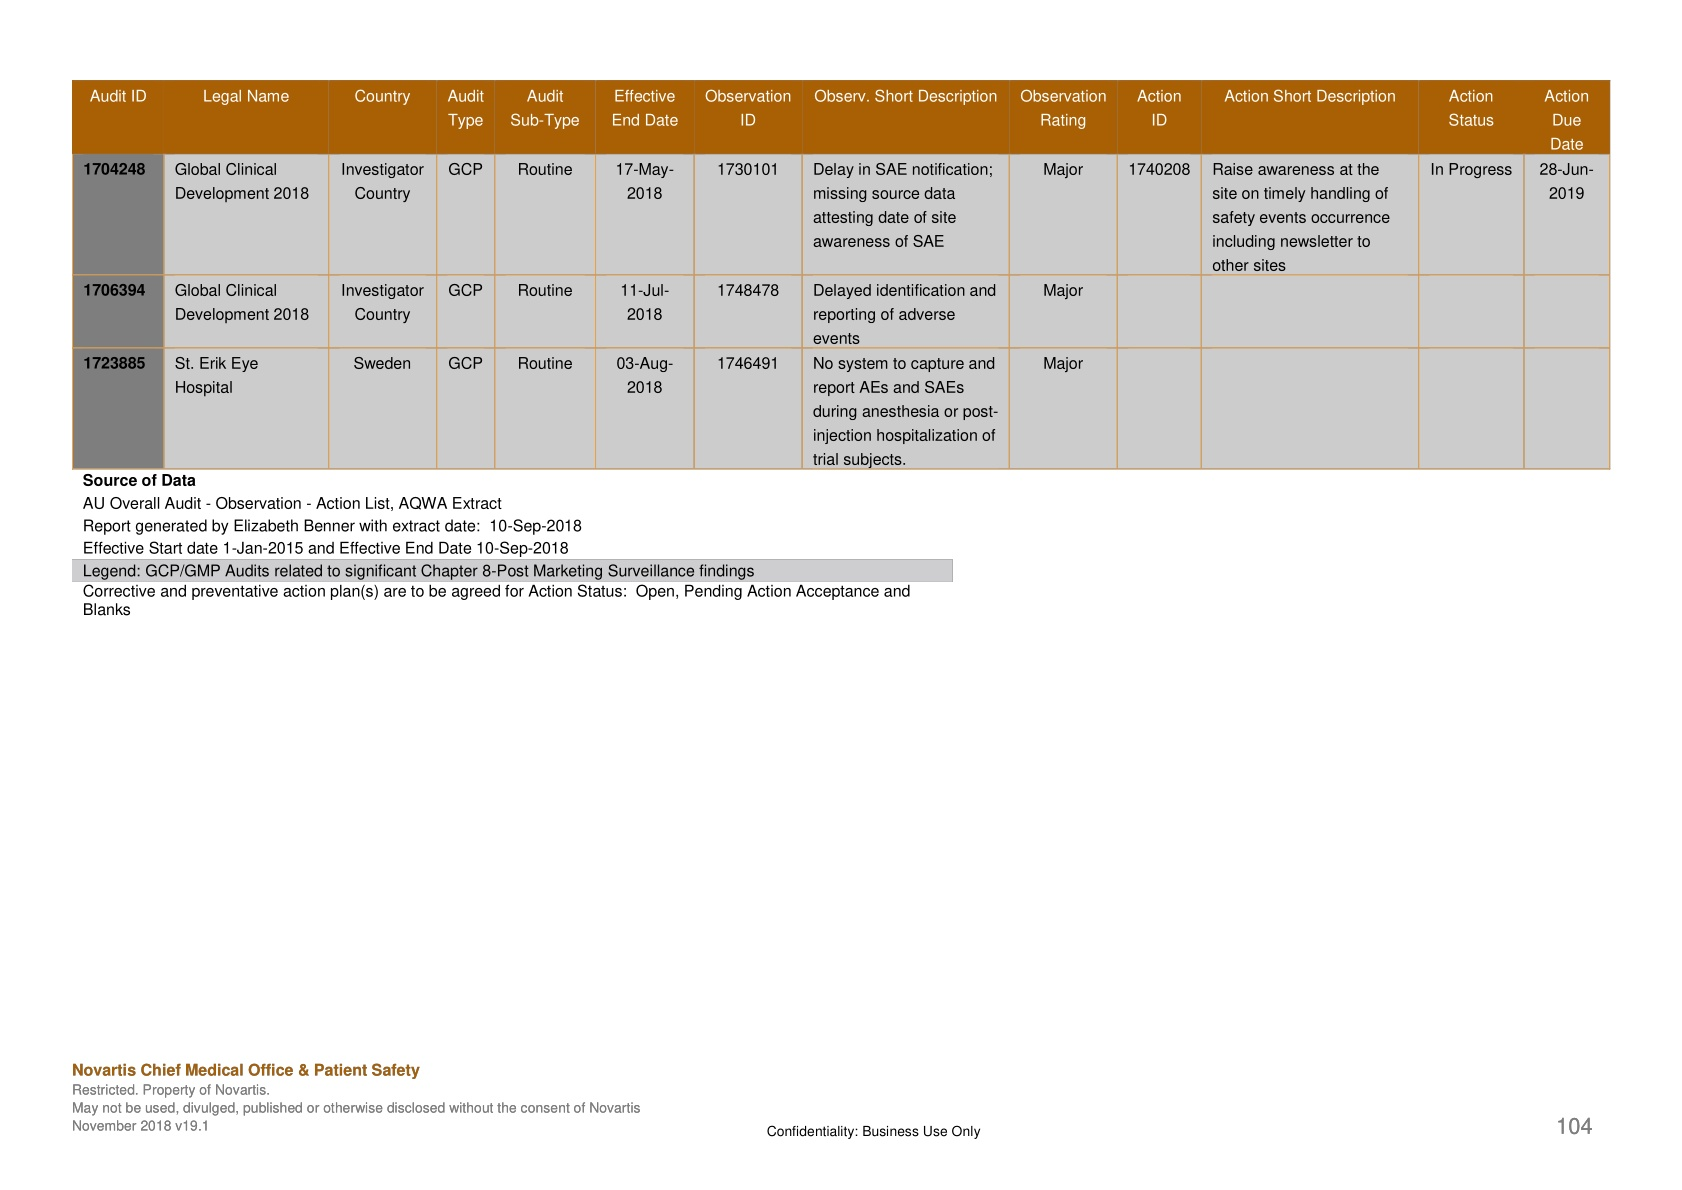full_lined: (71, 79, 1612, 471)
